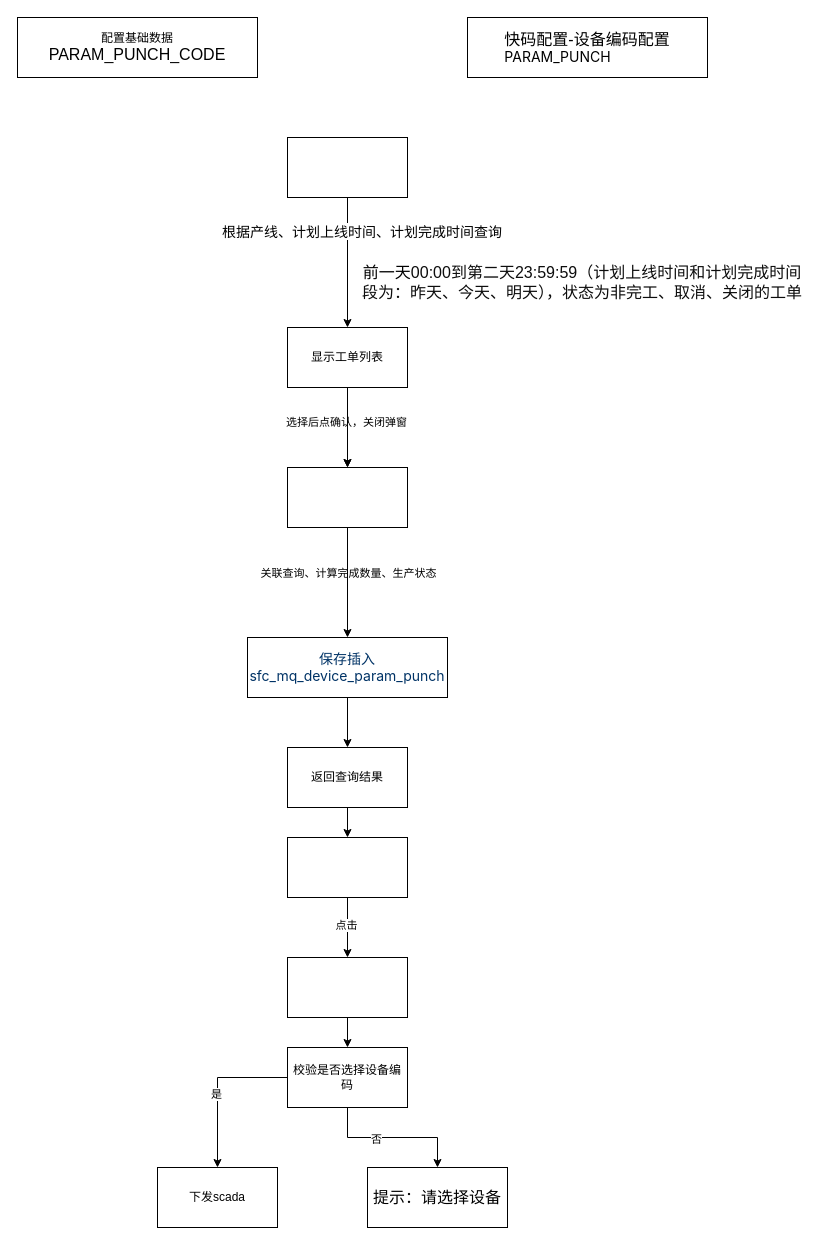
This 825x1245 diagram has some shape labels left out. The shapes that lost their labels are listed below. From the top down, each one's centre as x and y in pixels, then its label:
(347,167): 点击产线放大镜
(347,497): 传参，调查询接口
(347,867): 页面列表显示
(347,987): 开始/下发按钮
